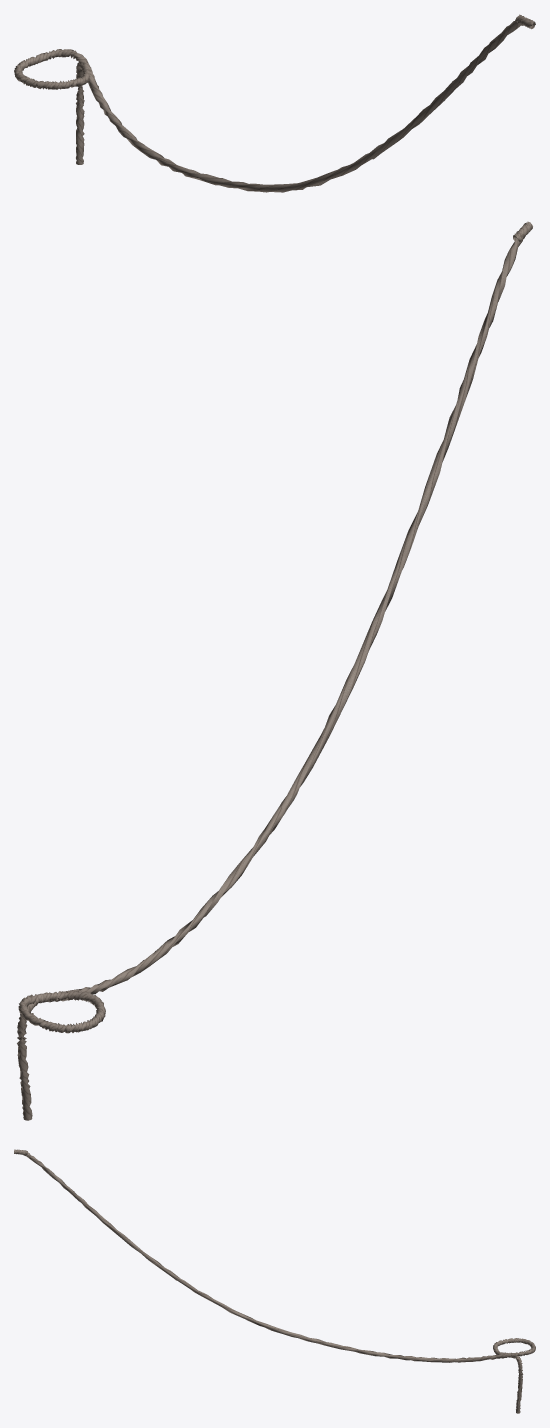
File: SM_RopeSplineMesh_Splines_32.fbx
3 views of the same model, one above another, from view 1: azimuth 30°, elevation 25°; view 2: azimuth 150°, elevation 25°; view 3: azimuth 270°, elevation 25° (orthographic). The views are drawn at different scales.
Parts seen in each view (by area): view 1: SM_RopeSplineMesh_Splines_32; view 2: SM_RopeSplineMesh_Splines_32; view 3: SM_RopeSplineMesh_Splines_32.
Boxes of the visible parts, x1=… form: SM_RopeSplineMesh_Splines_32: x1=14, y1=14, x2=535, y2=192; SM_RopeSplineMesh_Splines_32: x1=17, y1=221, x2=532, y2=1120; SM_RopeSplineMesh_Splines_32: x1=14, y1=1149, x2=535, y2=1413.
Size of the model in its own units: 22.66 by 265 by 148.
